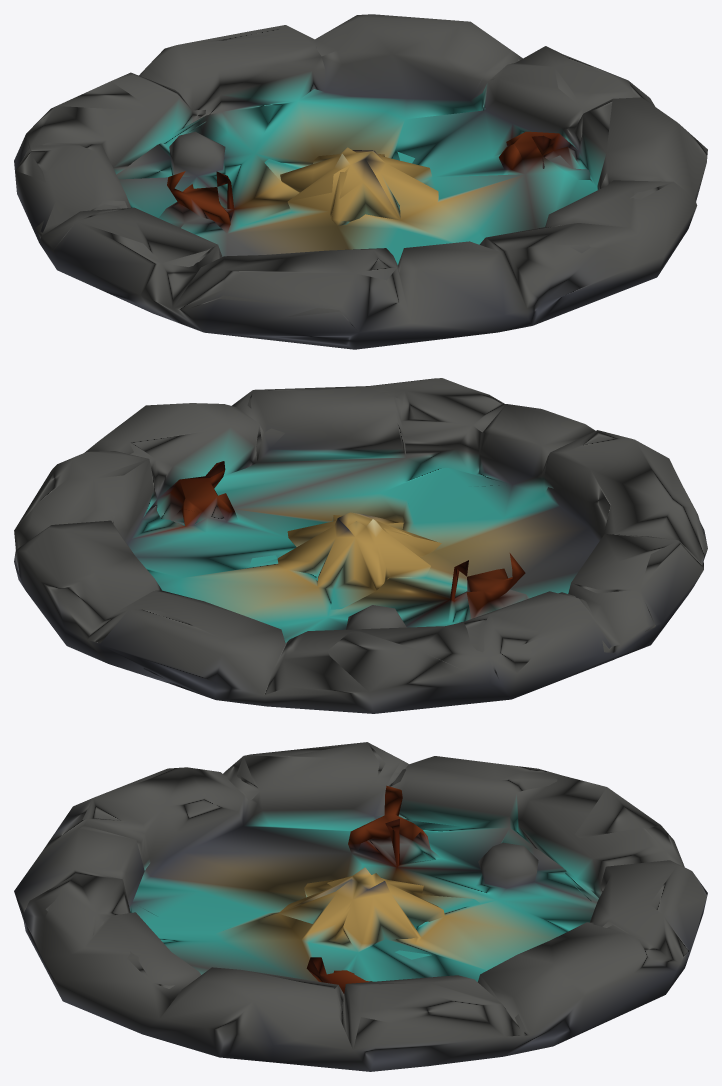
The model's file is gen3d-rock-pool-lod1.glb.
3 renders of one model, top to bottom at view 1: azimuth 30°, elevation 25°; view 2: azimuth 150°, elevation 25°; view 3: azimuth 270°, elevation 25°, orthographic.
Visible parts, largest first — view 1: part_0; view 2: part_0; view 3: part_0.
Boxes of the visible parts, x1,y1,x2,y2 form: part_0: (14,14,707,349); part_0: (14,378,707,713); part_0: (14,742,707,1071).
Size of the model in its own units: 9.47 by 0.9794 by 9.47.
